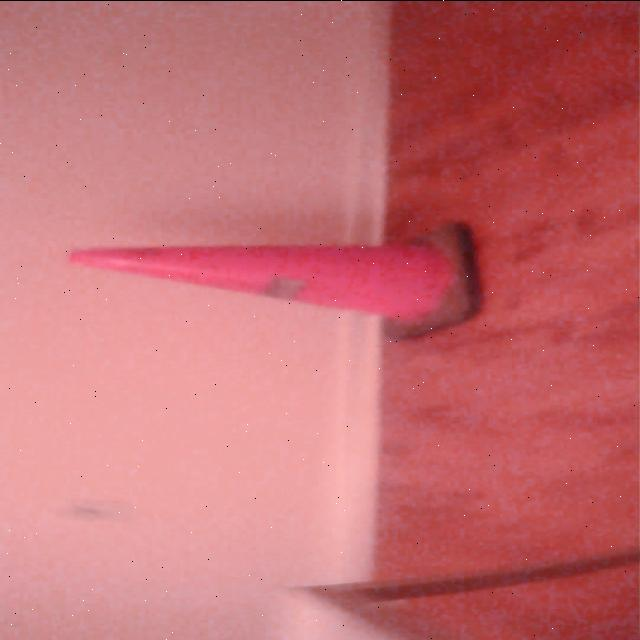traffic cone: (60, 217, 492, 345)
